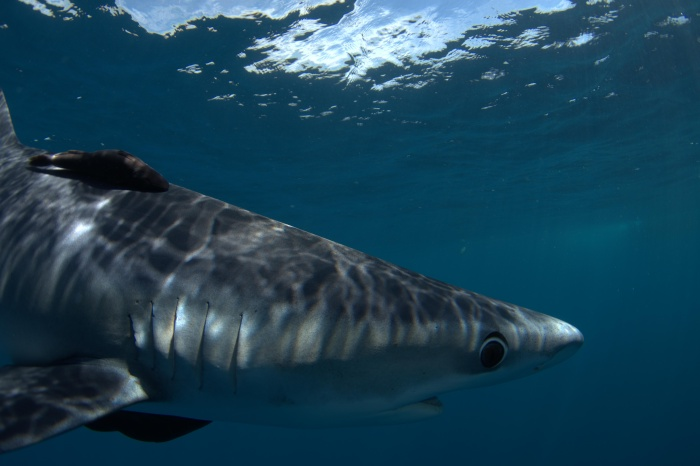Azul: (1, 91, 649, 462)
